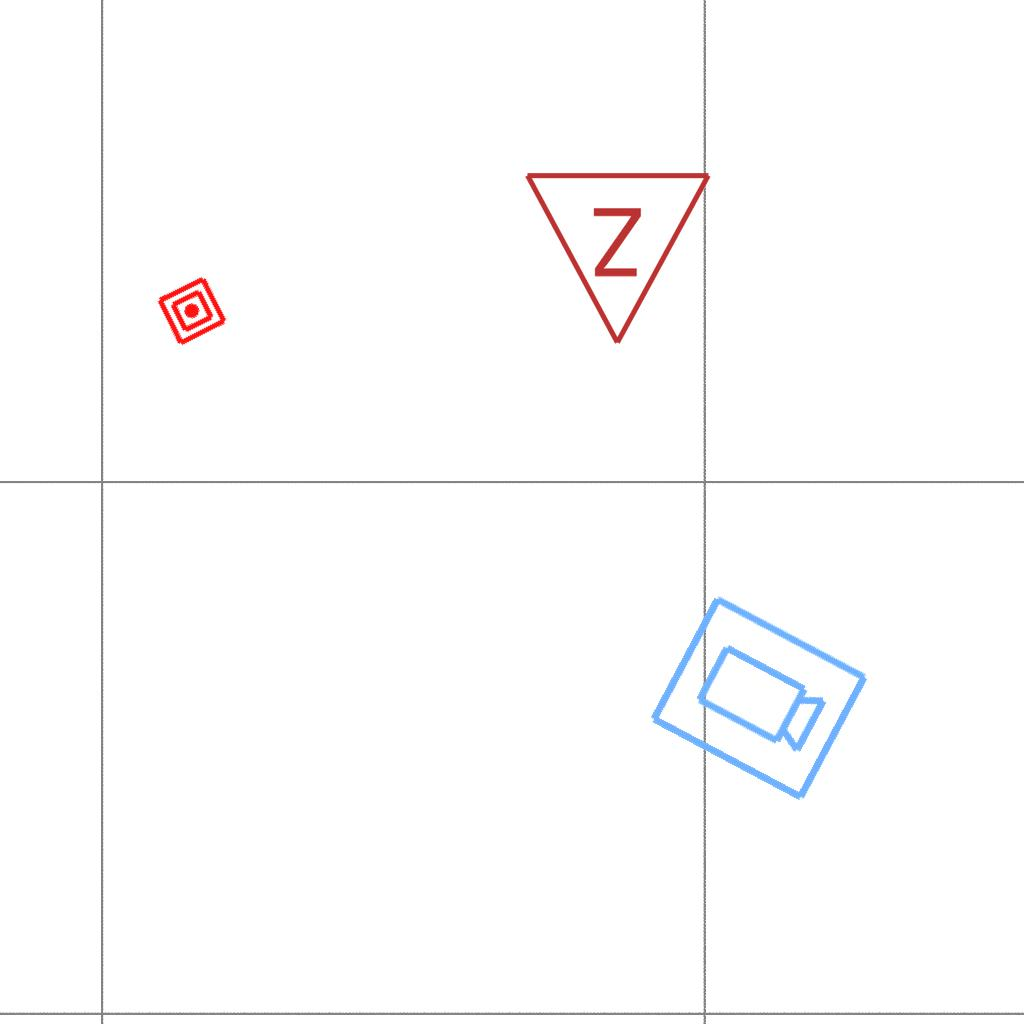KFO_Kamera_mit_Festobjektiv: (641, 588, 875, 810)
NAM-Nichtautomatischer_Melder: (154, 273, 230, 349)
Zimmersignalleuchte: (522, 158, 718, 358)
